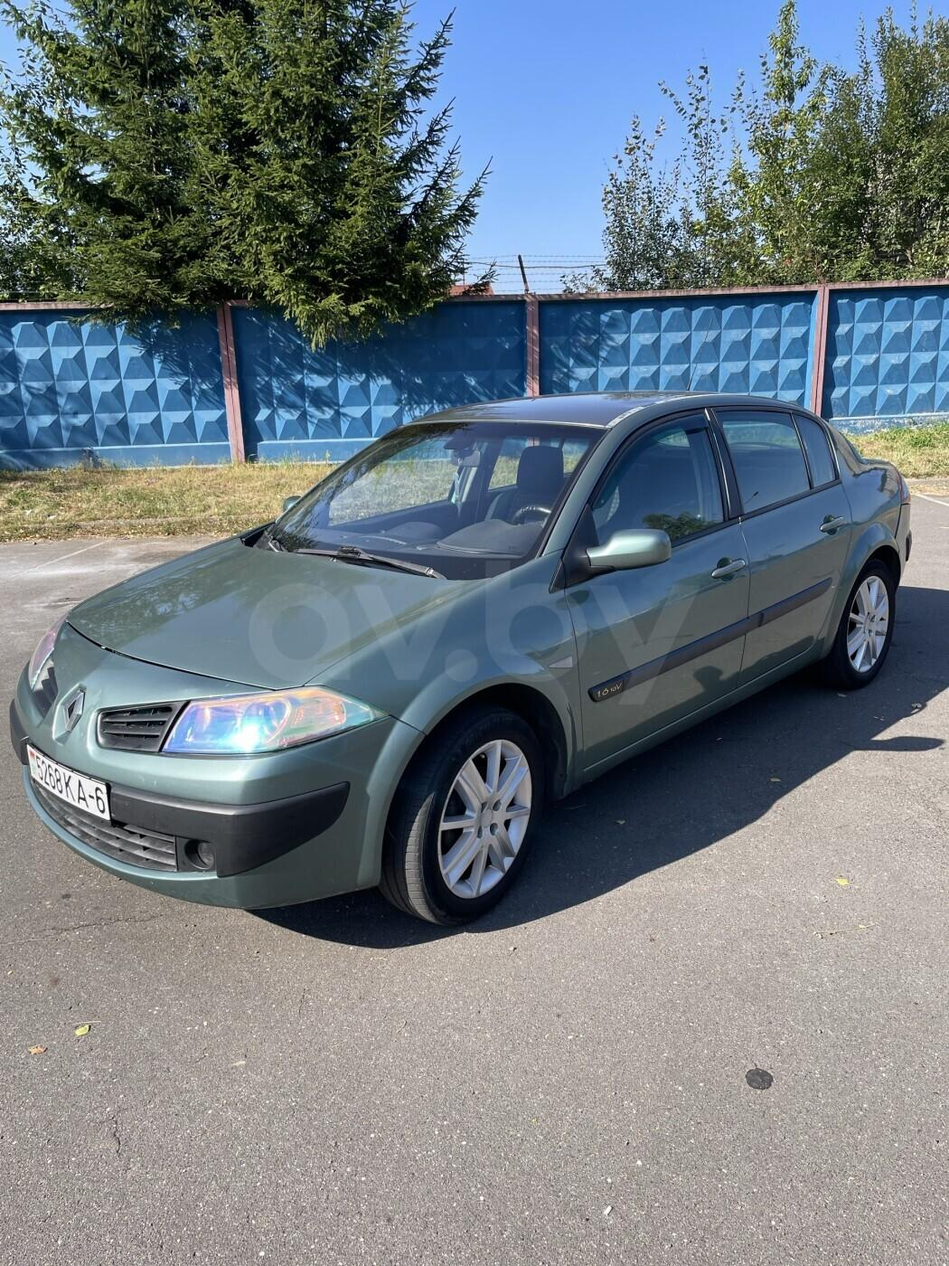Megane_2005-2009: (13, 382, 929, 915)
